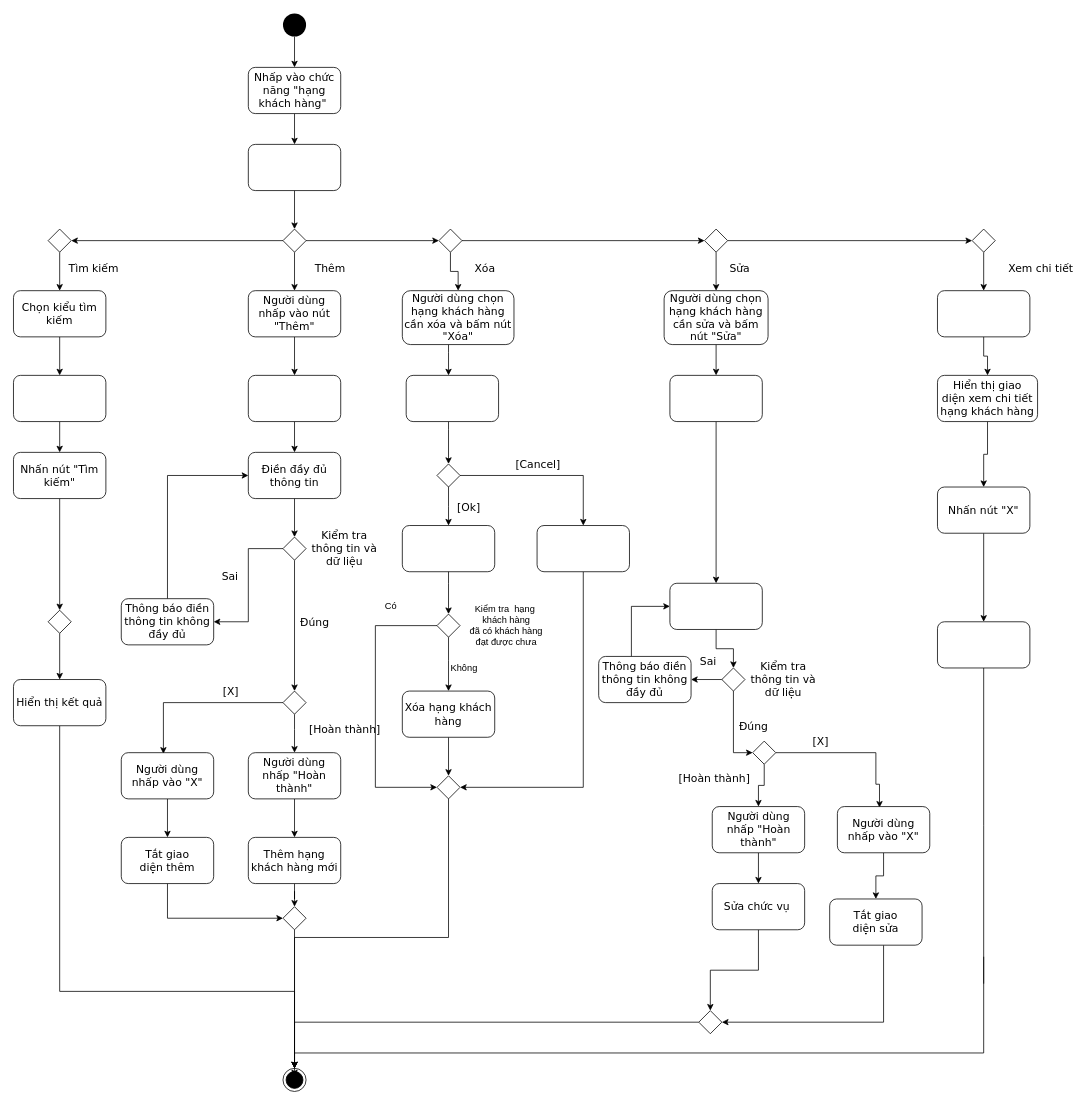
Some shapes in this 1086 by 1105 pixel diagram are drawn without their labels. Here are the shapes that lost their labels. From the top down, the centre of each, then its label:
[294,167]: Hiển thị danh sách hạng khách hàng
[983,313]: Người dùng chọn hạng khách hàng cần xem chi tiết
[59,398]: Nhập thông tin cần tìm
[294,398]: Hiển thị giao diện thêm hạng khách hàng
[452,398]: Hiển thị thông báo xác nhận xóa
[715,398]: Hiển thị giao diện sửa hạng khách hàng
[448,548]: Người dùng nhấp vào "Ok"
[582,548]: Tắt thông báo xác nhận xóa
[715,606]: Điền đầy đủ thông tin cần sửa
[983,644]: Tắt giao diện xem chi tiết
